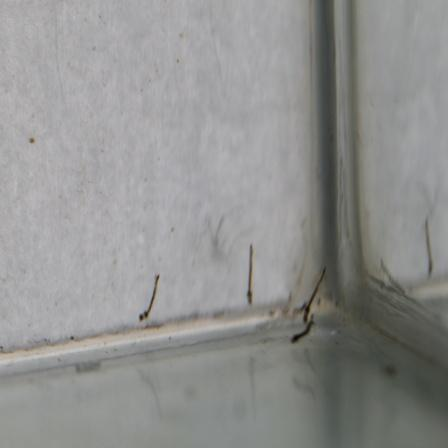Jentik-Nyamuk: (134, 272, 162, 323), (243, 241, 260, 308)
